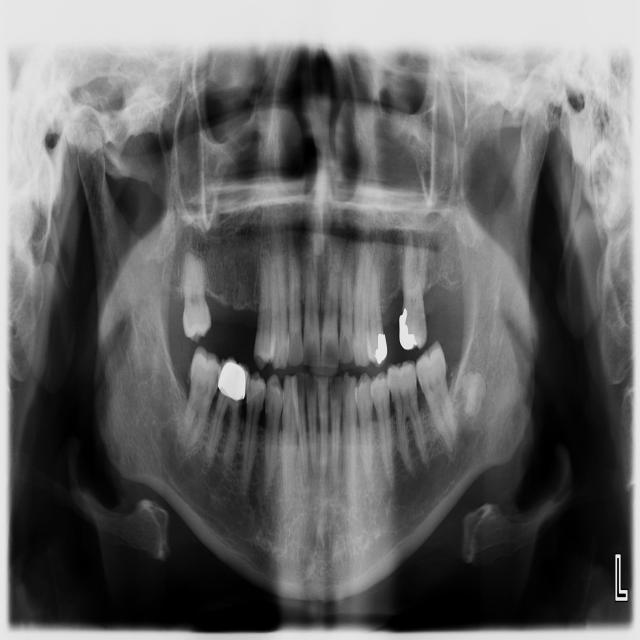mandibula: (76, 95, 549, 600)
